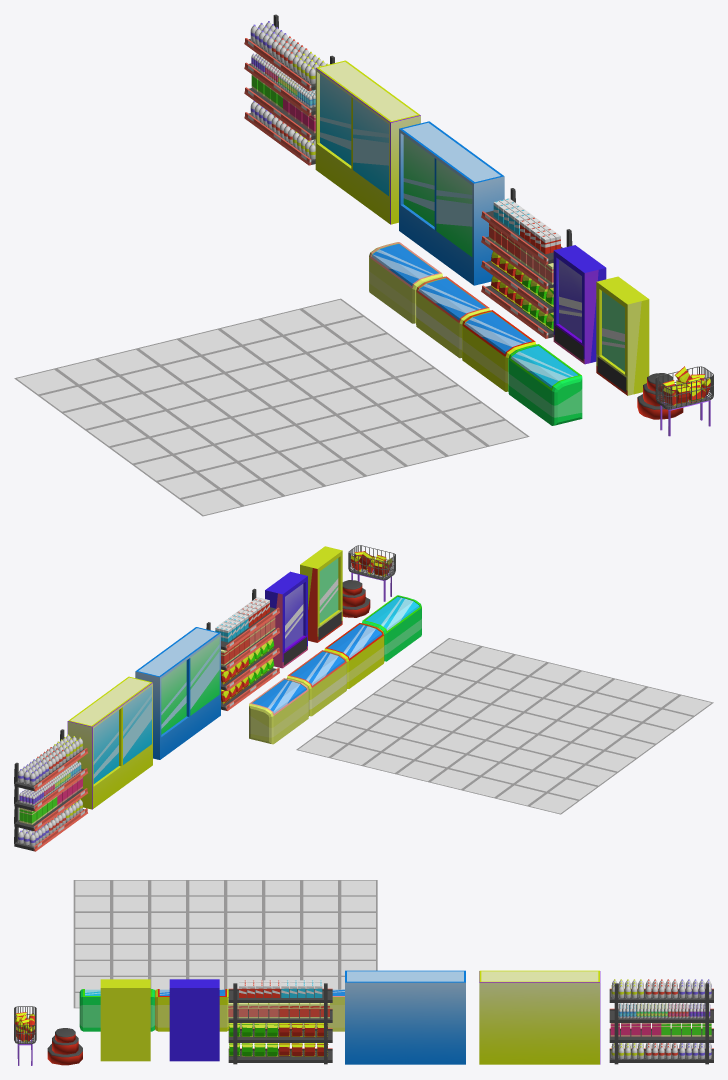
Rendered from marketAssets.fbx.
The picture shows the model from 3 angles, top to bottom: view 1: azimuth 30°, elevation 25°; view 2: azimuth 150°, elevation 25°; view 3: azimuth 270°, elevation 25°; orthographic projection. The views are drawn at different scales.
Visible parts, largest first — view 1: ground, fridge, fridge2, vendingMachine.001, vendingMachine, littleFridge, littleFridge5, littleFridge1, shelf, littleFridge3, shelf.001, sepet (+4 smaller); view 2: ground, fridge2, fridge, vendingMachine.001, vendingMachine, littleFridge5, shelf.001, littleFridge3, littleFridge, shelf, littleFridge1, sepet (+6 smaller); view 3: ground, fridge2, fridge, vendingMachine, vendingMachine.001, shelf, shelf.001, littleFridge, littleFridge1, step, karton1, karton1.002 (+19 smaller).
Part boxes in pixels (box(x1,y1,x2,y2)): ground: box(14, 298, 529, 516); fridge: box(399, 121, 504, 285); fridge2: box(315, 60, 420, 224); vendingMachine.001: box(596, 276, 649, 395); vendingMachine: box(553, 245, 606, 364); littleFridge: box(508, 344, 582, 425); littleFridge5: box(369, 242, 442, 323); littleFridge1: box(462, 310, 535, 391); shelf: box(481, 188, 572, 338); littleFridge3: box(416, 276, 489, 358); shelf.001: box(244, 14, 334, 165); sepet: box(655, 366, 713, 436); ground: box(296, 638, 713, 814); fridge2: box(67, 676, 152, 809); fridge: box(135, 627, 220, 759); vendingMachine.001: box(300, 546, 342, 642); vendingMachine: box(265, 571, 307, 668); littleFridge5: box(249, 678, 308, 744); shelf.001: box(14, 729, 87, 851); littleFridge3: box(287, 650, 346, 716); littleFridge: box(362, 595, 421, 661); shelf: box(206, 588, 279, 710); littleFridge1: box(324, 623, 384, 688); sepet: box(348, 545, 395, 601); ground: box(73, 880, 377, 1008); fridge2: box(479, 970, 600, 1064); fridge: box(345, 970, 465, 1064); vendingMachine: box(169, 979, 219, 1061); vendingMachine.001: box(100, 979, 150, 1061); shelf: box(228, 983, 332, 1064); shelf.001: box(609, 983, 713, 1064); littleFridge: box(79, 989, 154, 1031); littleFridge1: box(155, 989, 229, 1031); step: box(47, 1028, 82, 1065); karton1: box(281, 980, 322, 997); karton1.002: box(228, 998, 278, 1018).
Size of the model in its own units: 11.65 by 2.39 by 18.43.
